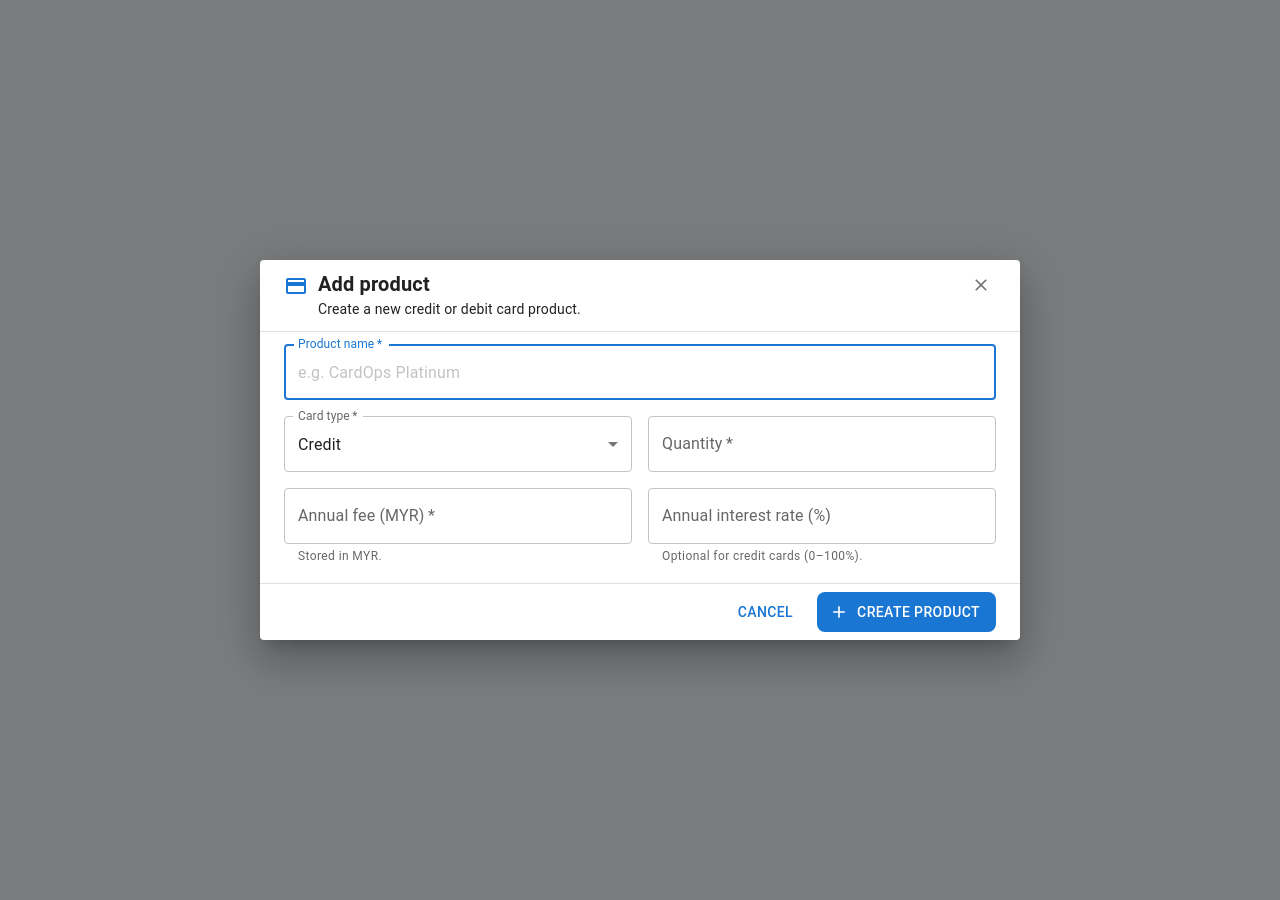
Test case: ProductDialog › shows client-side validation errors for an empty submission
Click the button "Create product" at (907,612), box left=817, top=592, right=996, bottom=632
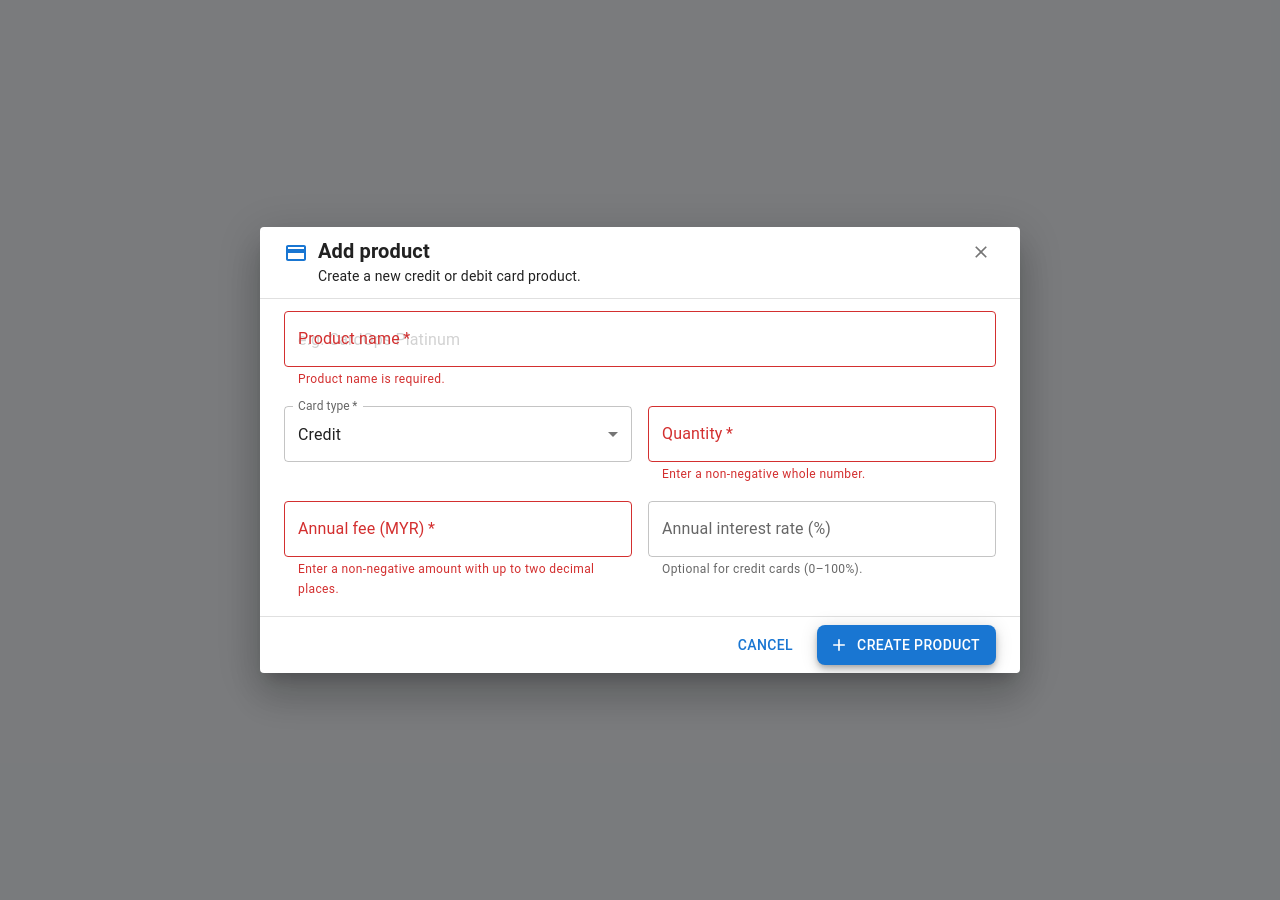
Expected: the text "Product name is required." is shown, left=298, top=372, right=445, bottom=386
Expected: the text "Enter a non-negative whole number." is shown, left=662, top=467, right=866, bottom=481
Expected: the text "Enter a non-negative amount with up to two decimal places." is shown, left=298, top=560, right=618, bottom=600
